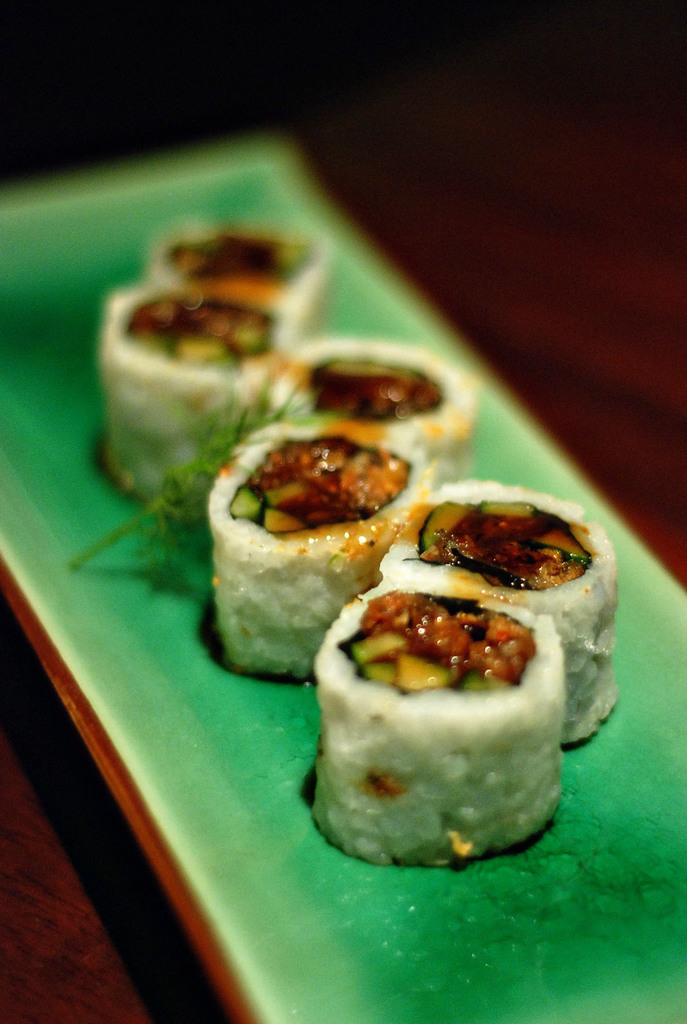sushi: (103, 225, 612, 867), (329, 528, 601, 852), (200, 426, 437, 689)
